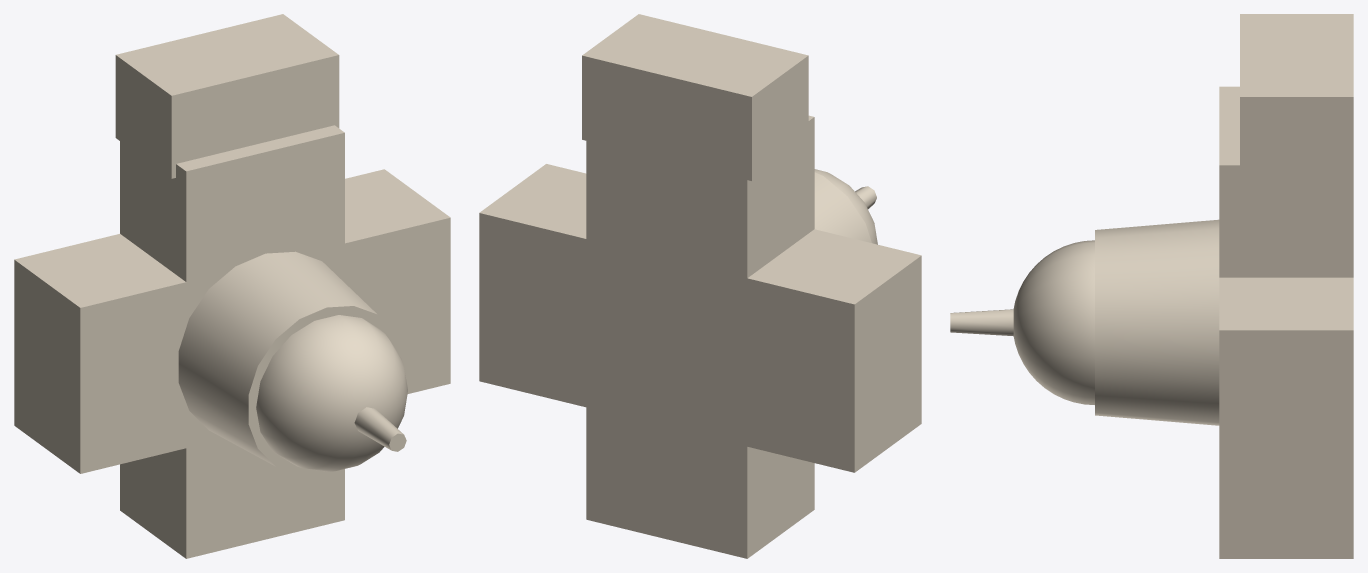
File: pantheon.glb
3 views of the same model, side by side, from view 1: azimuth 30°, elevation 25°; view 2: azimuth 150°, elevation 25°; view 3: azimuth 270°, elevation 25° (orthographic).
Parts seen in each view (by area): view 1: Le Panthéon; view 2: Le Panthéon; view 3: Le Panthéon.
Boxes of the visible parts, box(x1,y1,x2,y2) form: Le Panthéon: box(14, 14, 450, 558); Le Panthéon: box(479, 14, 921, 558); Le Panthéon: box(950, 14, 1353, 558).
Size of the model in its own units: 84 by 99 by 78.
